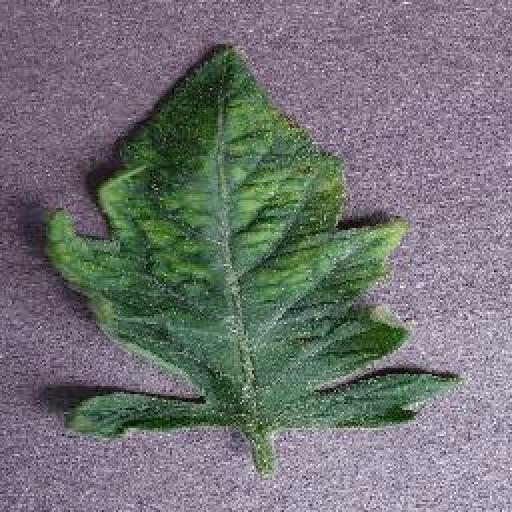disease_tomato: (43, 34, 465, 444)
